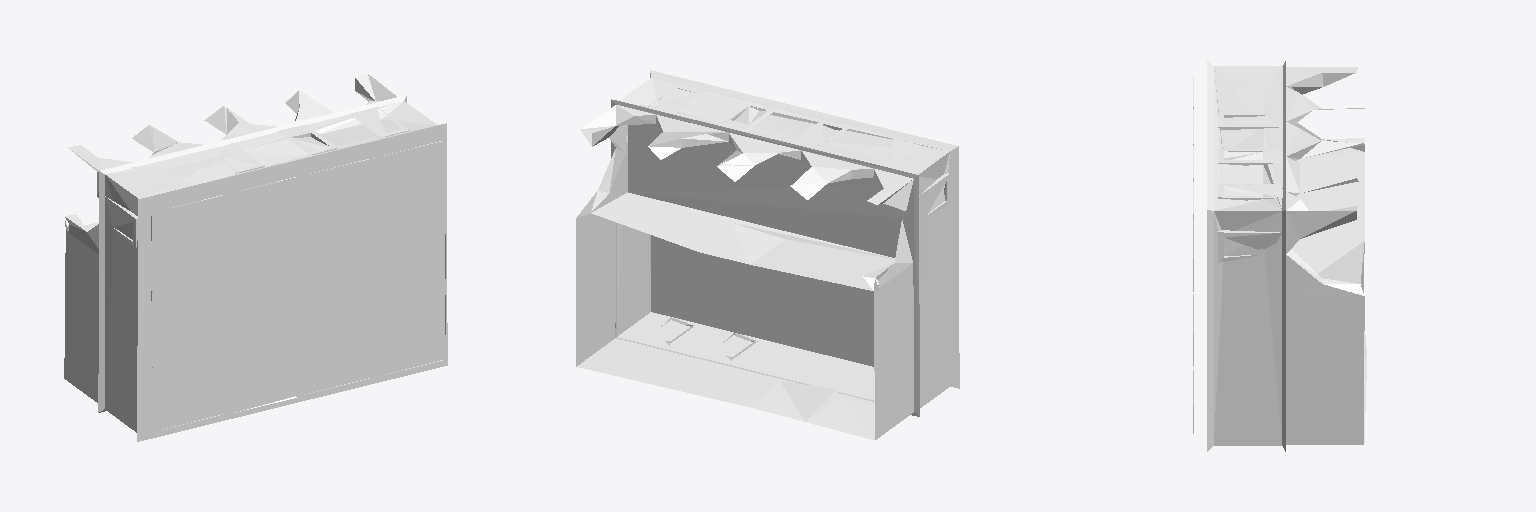
File: building5LOD.obj
The picture shows the model from 3 angles: view 1: azimuth 30°, elevation 25°; view 2: azimuth 150°, elevation 25°; view 3: azimuth 270°, elevation 25°; orthographic projection.
Visible parts, largest first — view 1: building5.001_LOD1; view 2: building5.001_LOD1; view 3: building5.001_LOD1.
Boxes of the visible parts, x1=… form: building5.001_LOD1: x1=64, y1=73, x2=447, y2=441; building5.001_LOD1: x1=576, y1=70, x2=959, y2=439; building5.001_LOD1: x1=1193, y1=60, x2=1366, y2=451.
Size of the model in its own units: 12.39 by 9.28 by 6.03.